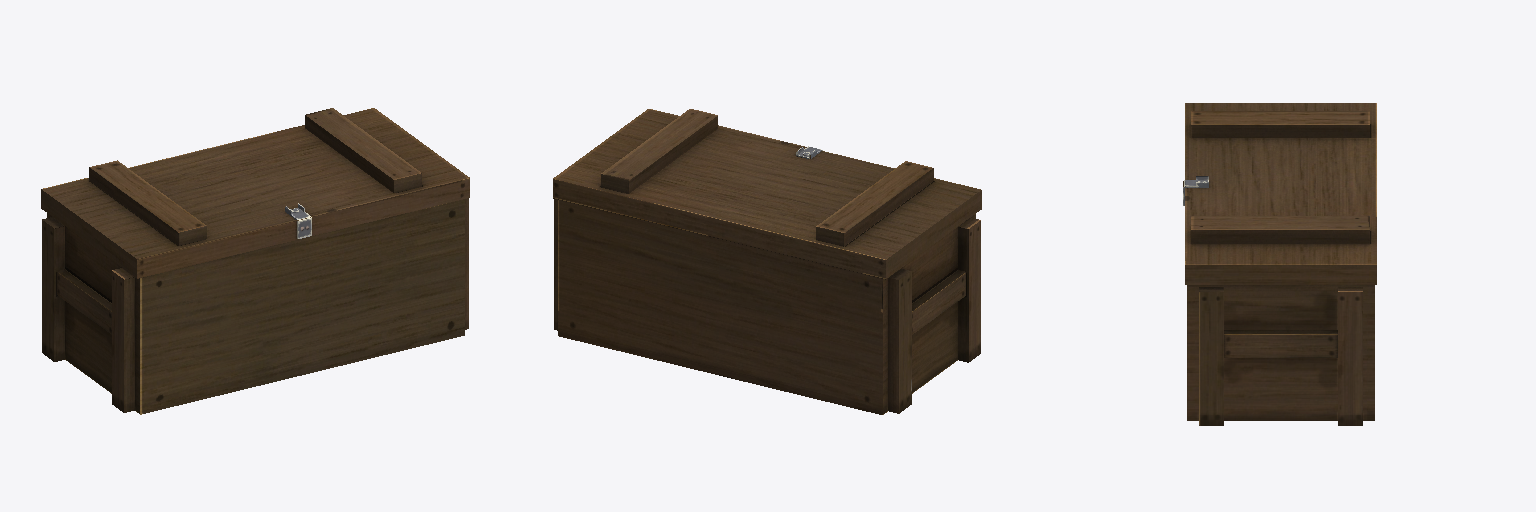
3 views of the same model, side by side, from view 1: azimuth 30°, elevation 25°; view 2: azimuth 150°, elevation 25°; view 3: azimuth 270°, elevation 25° (orthographic).
Visible parts, largest first — view 1: Base_Cube, Top_Cube.001; view 2: Base_Cube, Top_Cube.001; view 3: Top_Cube.001, Base_Cube.
Boxes of the visible parts, box(x1,y1,x2,y2) form: Base_Cube: box(42, 198, 468, 414); Top_Cube.001: box(41, 108, 469, 278); Base_Cube: box(554, 199, 980, 414); Top_Cube.001: box(553, 109, 981, 279); Top_Cube.001: box(1183, 103, 1376, 284); Base_Cube: box(1187, 285, 1374, 425).
Bounding box in the file's own units: 1.7 × 0.8047 × 0.8294.
Materials: 1 (1 with a texture image).